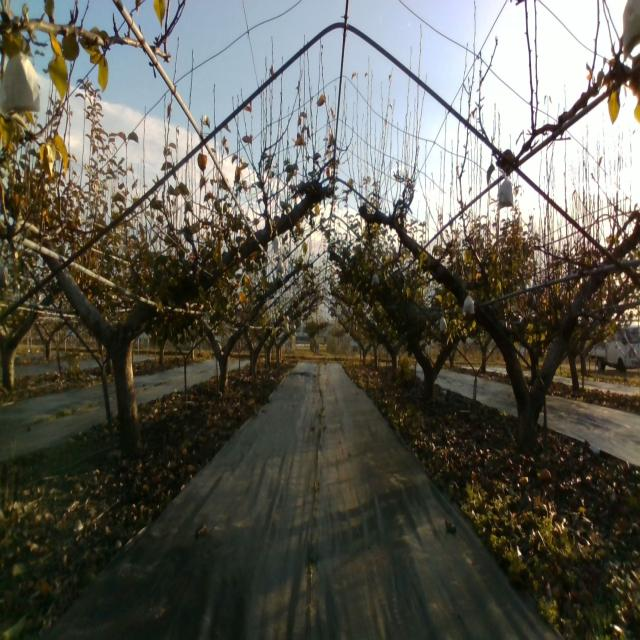pearbags: (0, 53, 40, 111), (498, 176, 514, 207), (462, 293, 476, 315)
